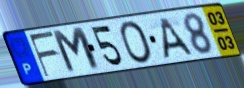5: (89, 25, 124, 68)
8: (181, 11, 215, 56)
A: (158, 16, 196, 61)
F: (27, 29, 60, 79)
M: (49, 25, 104, 76)
O: (118, 19, 155, 65)
